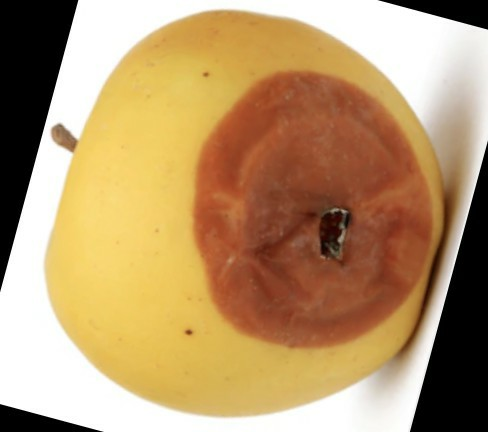rotten_apple: (46, 9, 448, 417)
